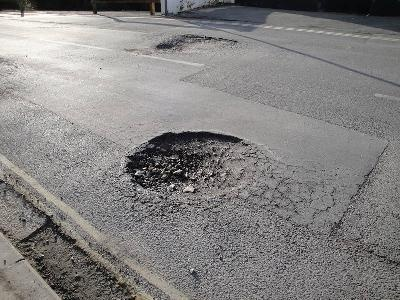pothole: (16, 215, 142, 298), (122, 128, 263, 198), (153, 31, 243, 57)
